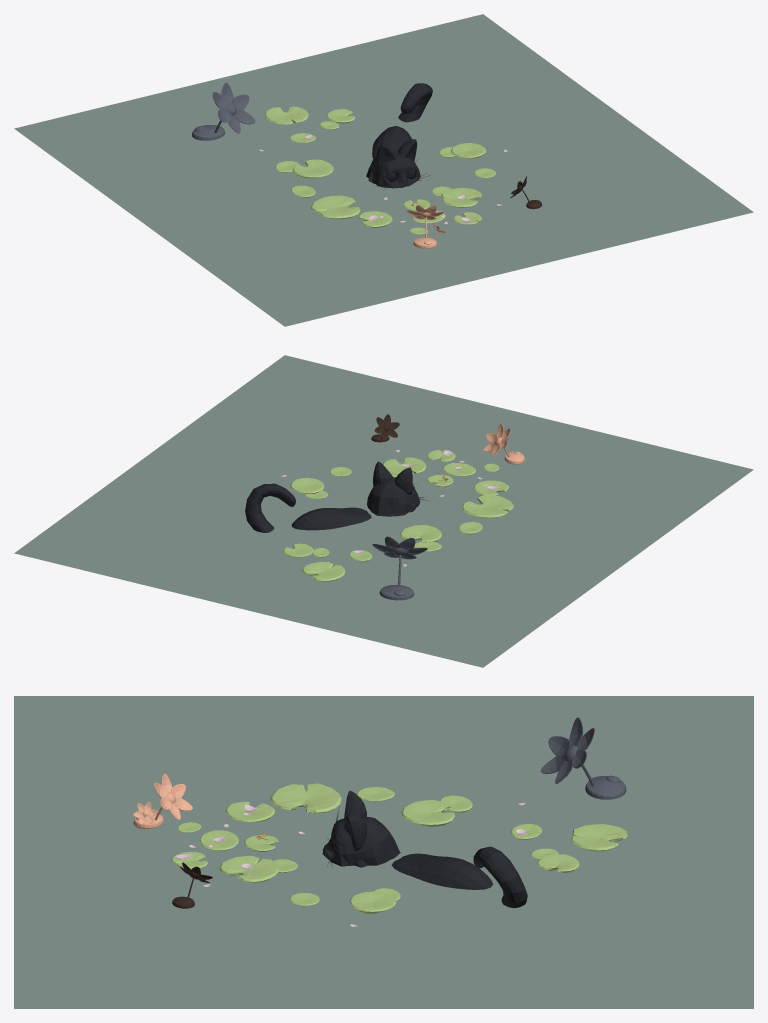
Rendered from Hunting.fbx.
3 renders of one model, top to bottom at view 1: azimuth 30°, elevation 25°; view 2: azimuth 150°, elevation 25°; view 3: azimuth 270°, elevation 25°, orthographic. The views are drawn at different scales.
Parts seen in each view (by area): view 1: water_water_lb_0, head_cat_lb_0, lilypad_16_lilypads_lb_0, tail_cat_lb_0, body_cat_lb_0, lilypad_18_lilypads_lb_0, lilypad_15_lilypads_lb_0, lilypad_12_lilypads_lb_0; view 2: water_water_lb_0, head_cat_lb_0, body_cat_lb_0, tail_cat_lb_0, lilypad_16_lilypads_lb_0, lilypad_15_lilypads_lb_0, lilypad_12_lilypads_lb_0; view 3: water_water_lb_0, head_cat_lb_0, body_cat_lb_0, tail_cat_lb_0, lilypad_16_lilypads_lb_0, lilypad_15_lilypads_lb_0, lilypad_18_lilypads_lb_0, lilypad_12_lilypads_lb_0, lilypad_03_lilypads_lb_0, sod_01_flower_03_lb_0, lilypad_14_lilypads_lb_0, lilypad_13_lilypads_lb_0 (+2 smaller).
Part boxes in pixels (x1,y1,x2,y2): water_water_lb_0: (14,14,753,326); head_cat_lb_0: (366,149,420,188); lilypad_16_lilypads_lb_0: (311,195,360,219); tail_cat_lb_0: (398,83,432,122); body_cat_lb_0: (372,126,411,158); lilypad_18_lilypads_lb_0: (441,188,481,207); lilypad_15_lilypads_lb_0: (264,106,308,124); lilypad_12_lilypads_lb_0: (293,159,333,178); water_water_lb_0: (14,355,753,667); head_cat_lb_0: (367,477,420,516); body_cat_lb_0: (291,507,371,530); tail_cat_lb_0: (245,483,295,532); lilypad_16_lilypads_lb_0: (461,495,513,518); lilypad_15_lilypads_lb_0: (302,562,345,581); lilypad_12_lilypads_lb_0: (400,525,441,542); water_water_lb_0: (14,696,753,1008); head_cat_lb_0: (322,817,400,867); body_cat_lb_0: (391,853,492,889); tail_cat_lb_0: (473,846,527,908); lilypad_16_lilypads_lb_0: (270,783,341,813); lilypad_15_lilypads_lb_0: (571,824,627,851); lilypad_18_lilypads_lb_0: (219,855,278,882); lilypad_12_lilypads_lb_0: (401,800,454,826); lilypad_03_lilypads_lb_0: (349,891,396,913); sod_01_flower_03_lb_0: (585,776,626,799); lilypad_14_lilypads_lb_0: (225,801,274,822); lilypad_13_lilypads_lb_0: (537,854,579,872).
Size of the model in its own units: 28.24 by 3.77 by 28.24.
